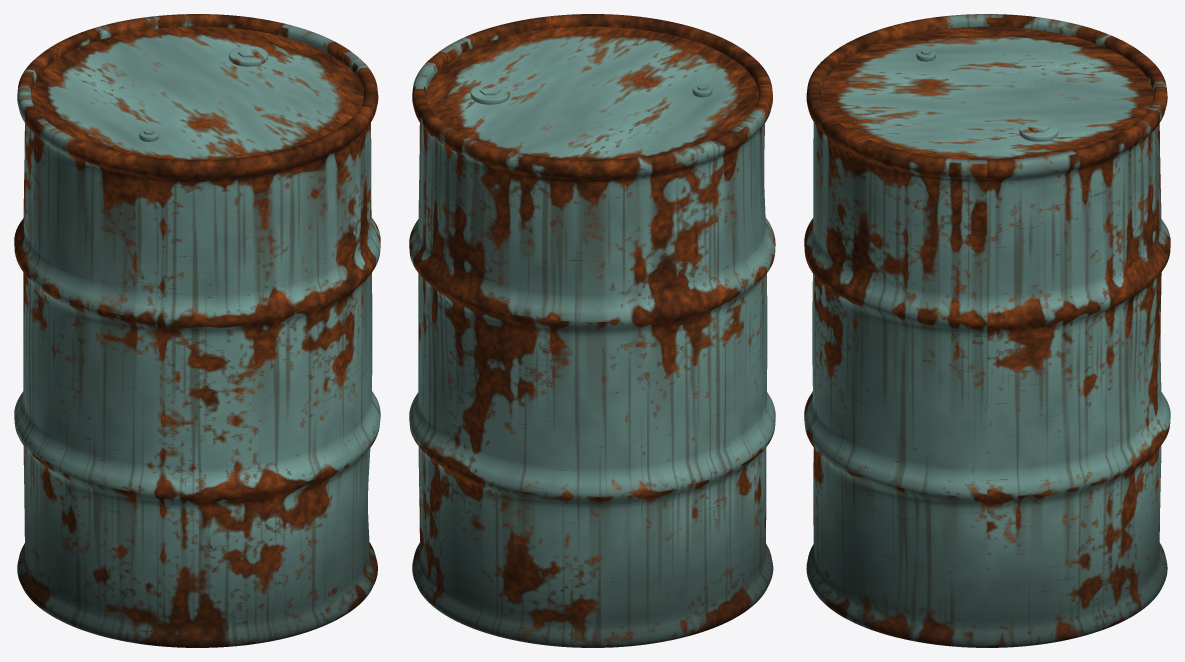
Rendered from Drum_Turquoise.glb.
The picture shows the model from 3 angles, left to right: view 1: azimuth 30°, elevation 25°; view 2: azimuth 150°, elevation 25°; view 3: azimuth 270°, elevation 25°; orthographic projection.
Visible parts, largest first — view 1: Drum_Turquoise; view 2: Drum_Turquoise; view 3: Drum_Turquoise.
Part boxes in pixels (x1,y1,x2,y2): Drum_Turquoise: [14, 14, 380, 647]; Drum_Turquoise: [409, 14, 775, 647]; Drum_Turquoise: [804, 14, 1170, 647].
Bounding box in the file's own units: 0.6011 × 0.88 × 0.6011.
Materials: 1 (1 with a texture image).
